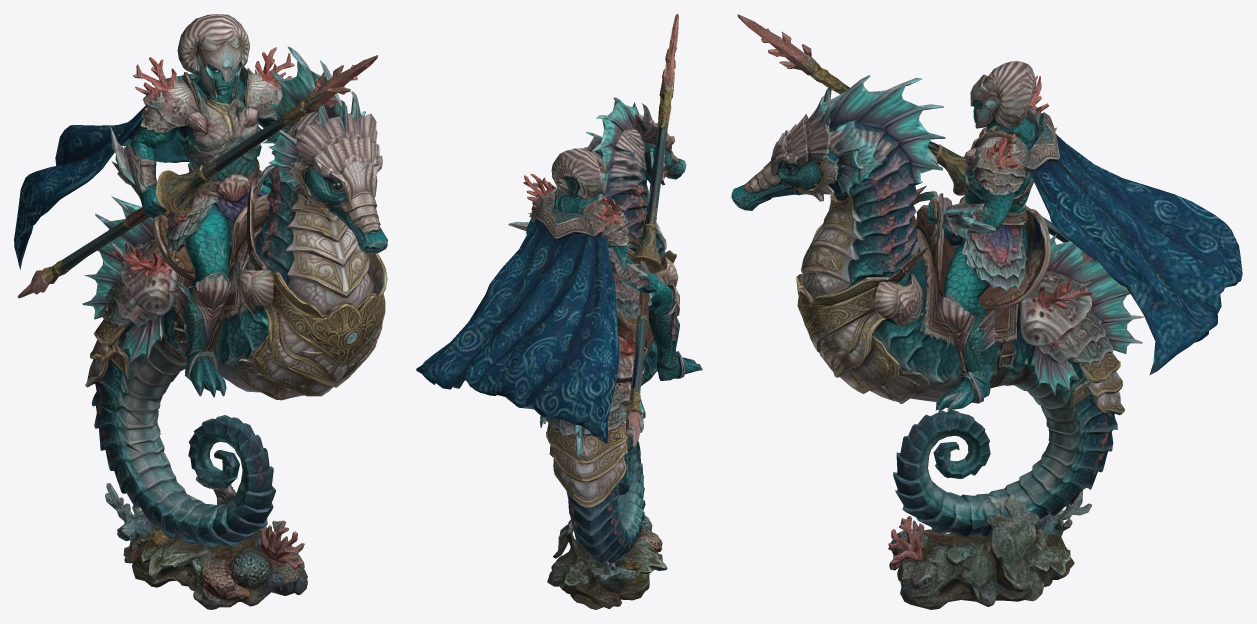
The model's file is model.opt.glb.
The picture shows the model from 3 angles, left to right: view 1: azimuth 30°, elevation 25°; view 2: azimuth 150°, elevation 25°; view 3: azimuth 270°, elevation 25°; orthographic projection. The views are drawn at different scales.
Parts seen in each view (by area): view 1: Mesh_0; view 2: Mesh_0; view 3: Mesh_0.
Part boxes in pixels (x1,y1,x2,y2): Mesh_0: [14, 14, 387, 609]; Mesh_0: [416, 14, 702, 609]; Mesh_0: [731, 14, 1242, 609].
Size of the model in its own units: 0.8823 by 1.9 by 1.51.
Materials: 1 (1 with a texture image).
